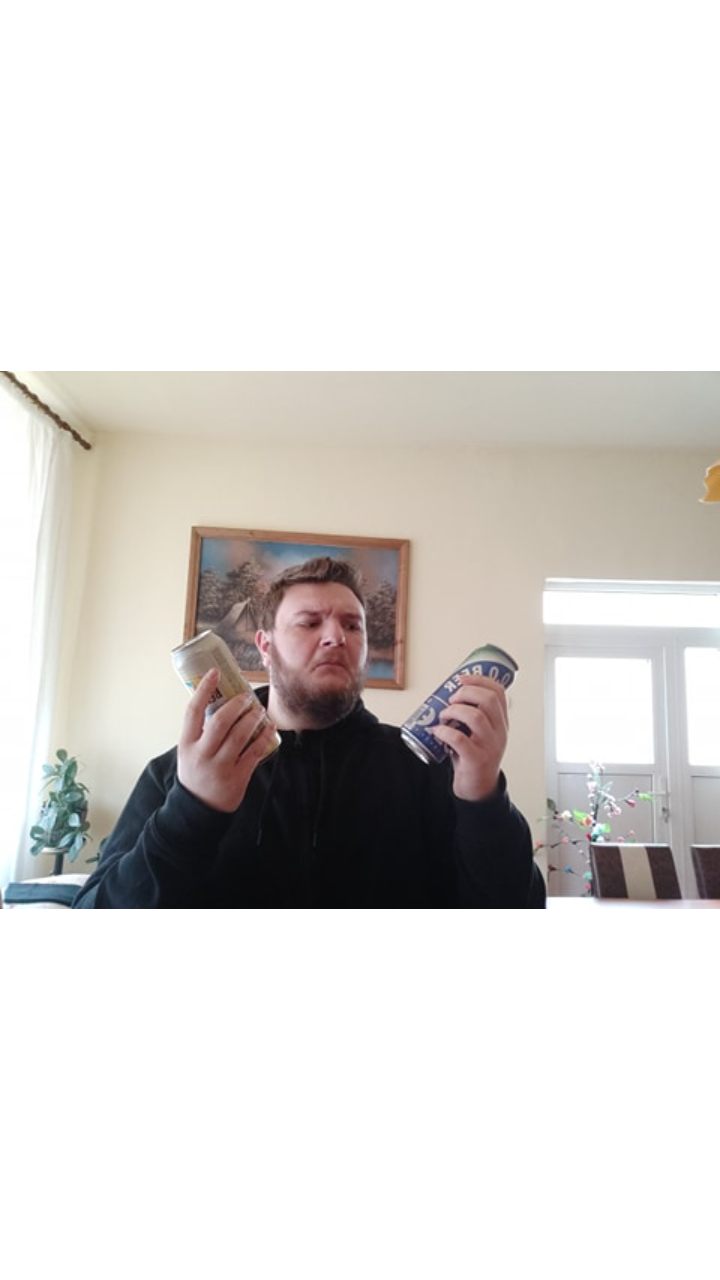Can: (400, 644, 520, 761), (171, 627, 284, 747)
